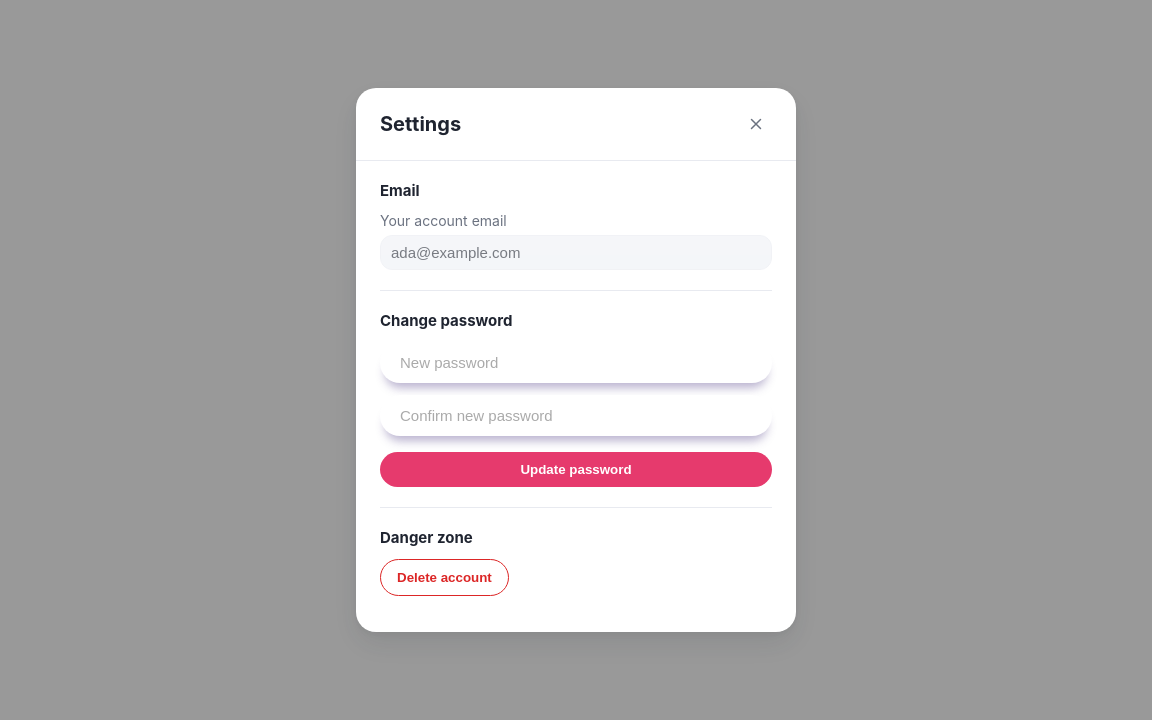
Test: change password: a policy failure shows the requirements tooltip on the new-password field, a mismatch on the confirm field
In the password field with test id "settings-new-password-input": (576, 362) [380,342,772,383], type "weak"
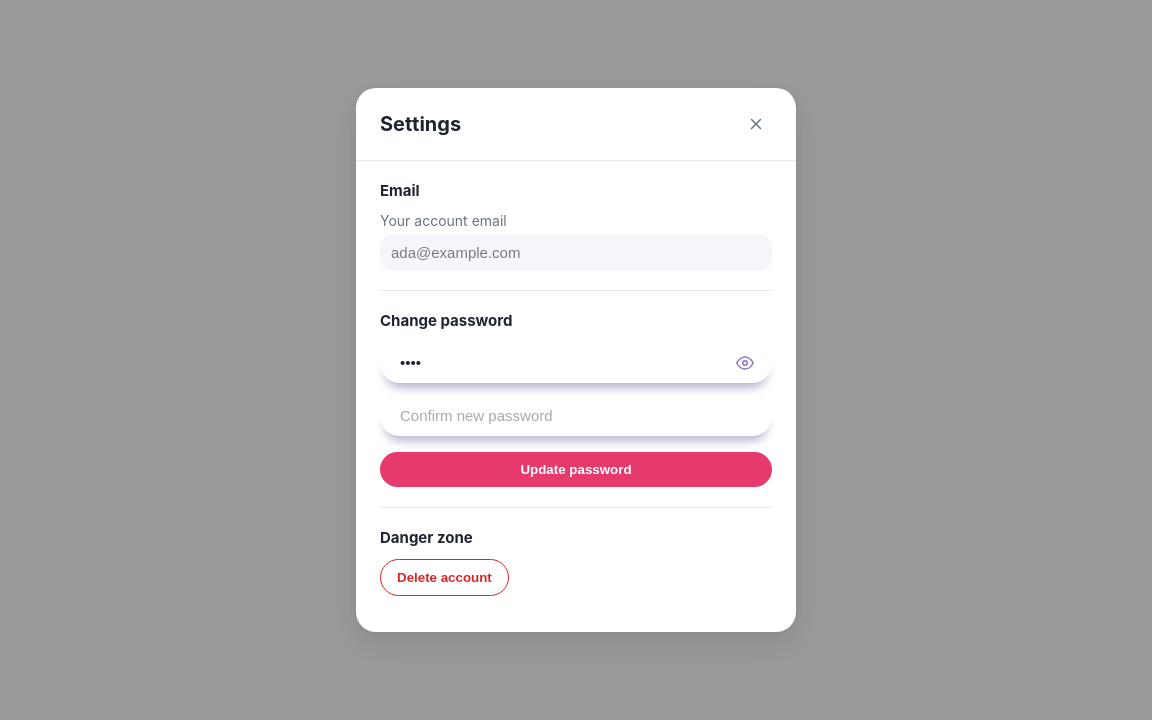
Click the button with test id "settings-password-save-button": (576, 470) [380,452,772,487]
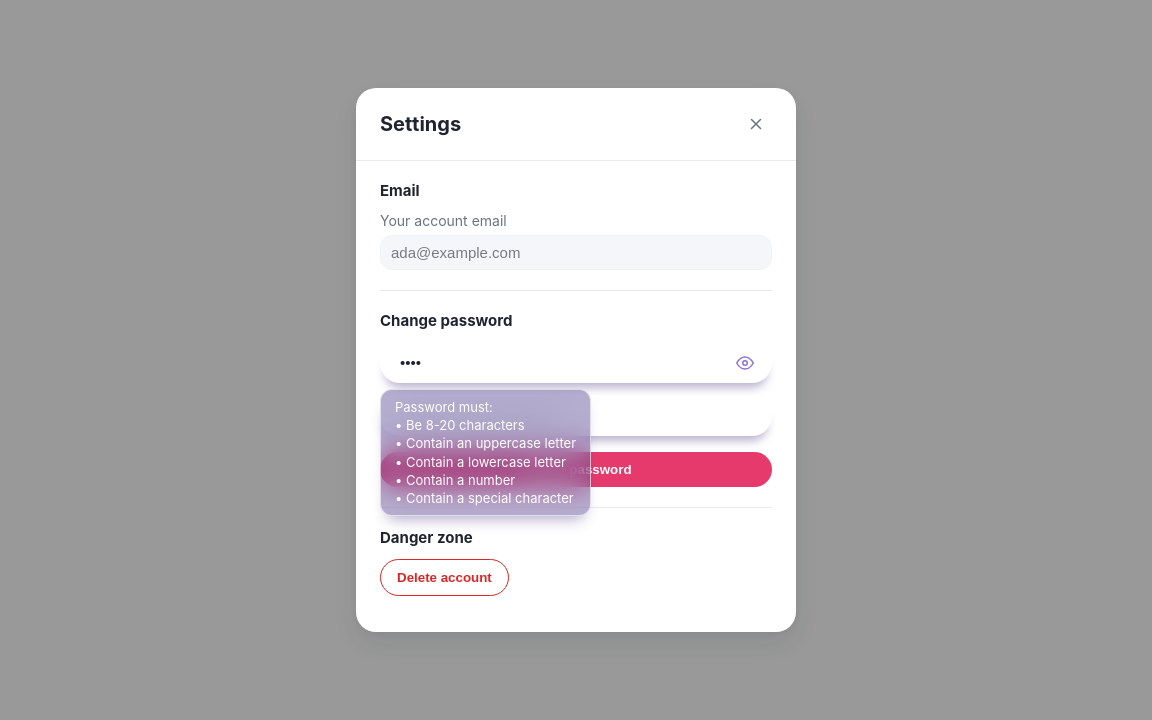
Expected: the message with test id "settings-password-error" shows "Password must:", [395,399,576,506]
In the password field with test id "settings-new-password-input": (576, 362) [380,342,772,383], type "NewPassword1!"
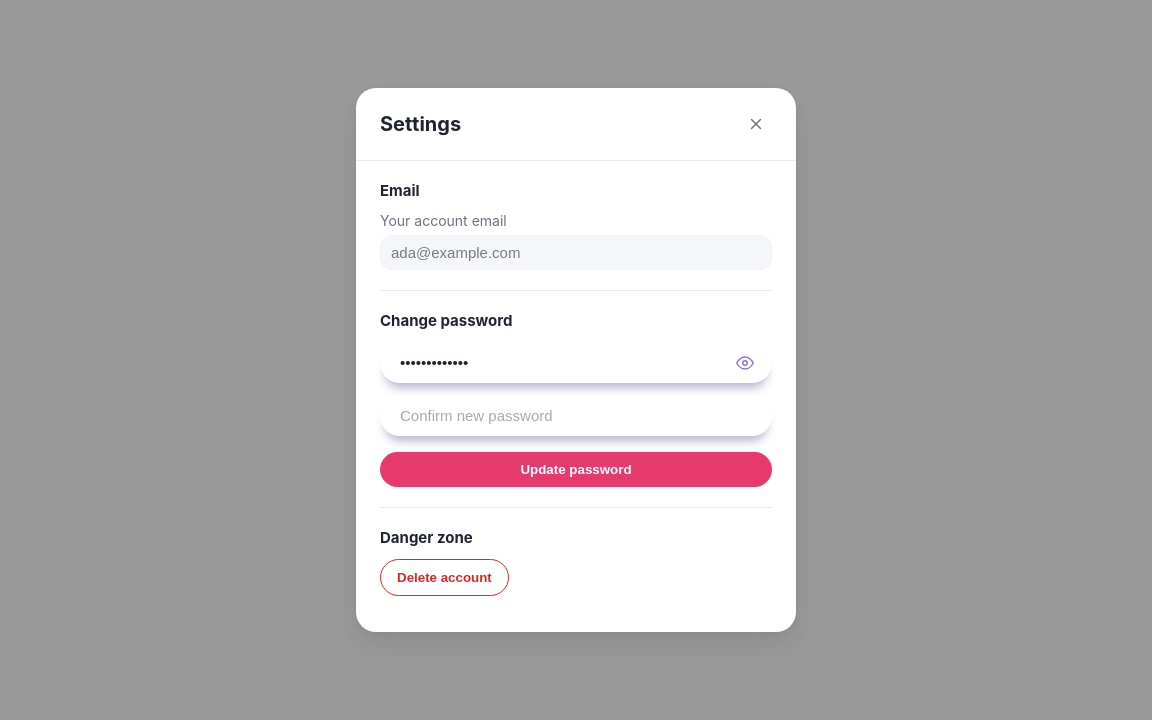
Expected: the message with test id "settings-password-error" is gone
In the password field with test id "settings-confirm-password-input": (576, 416) [380,395,772,436], type "Different1!"
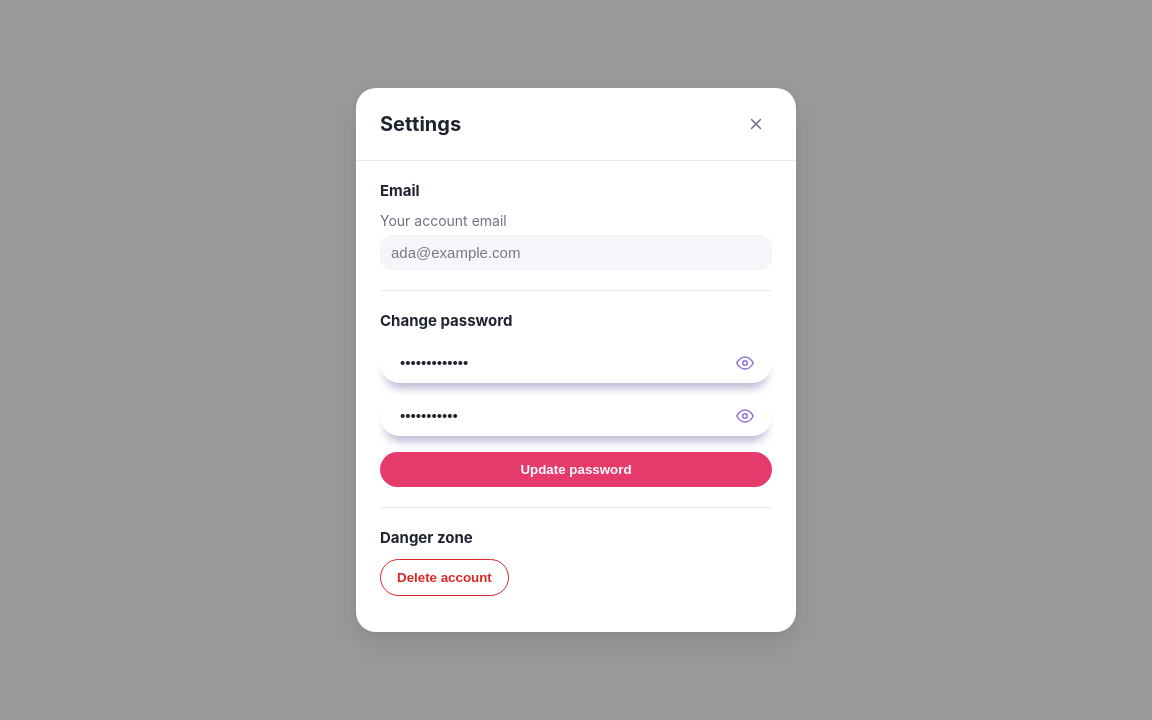
Click the button with test id "settings-password-save-button": (576, 470) [380,452,772,487]
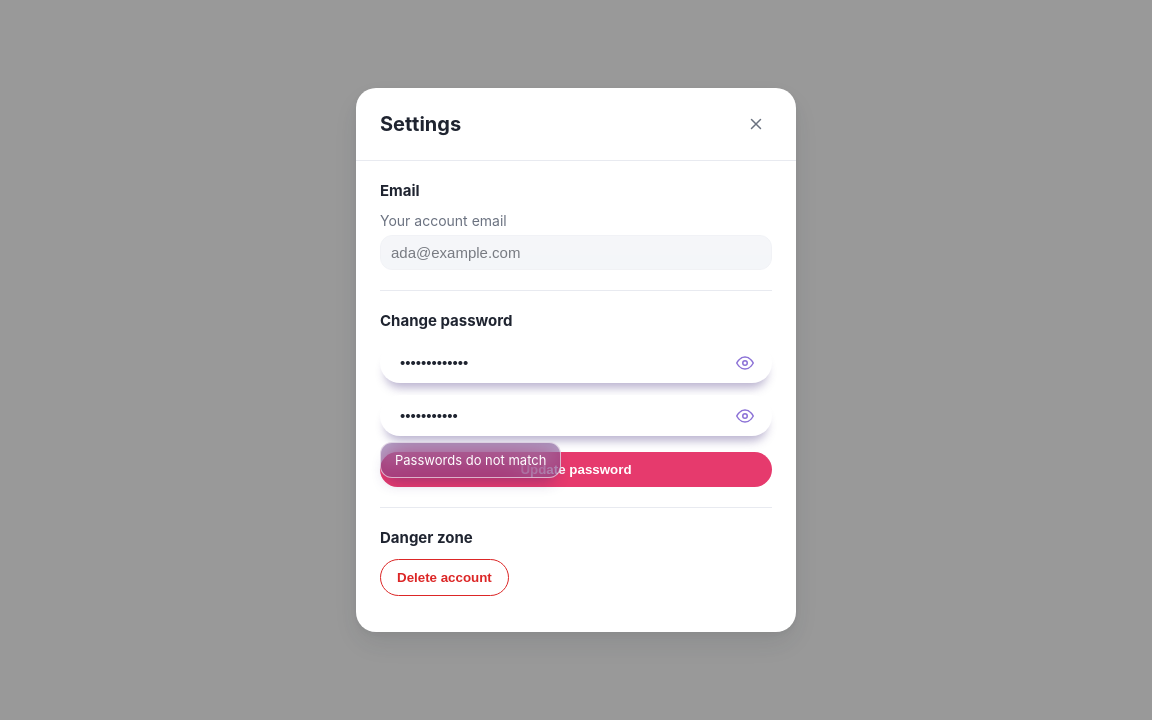
Expected: the message with test id "settings-password-error" reads "Passwords do not match", [395,452,546,468]
